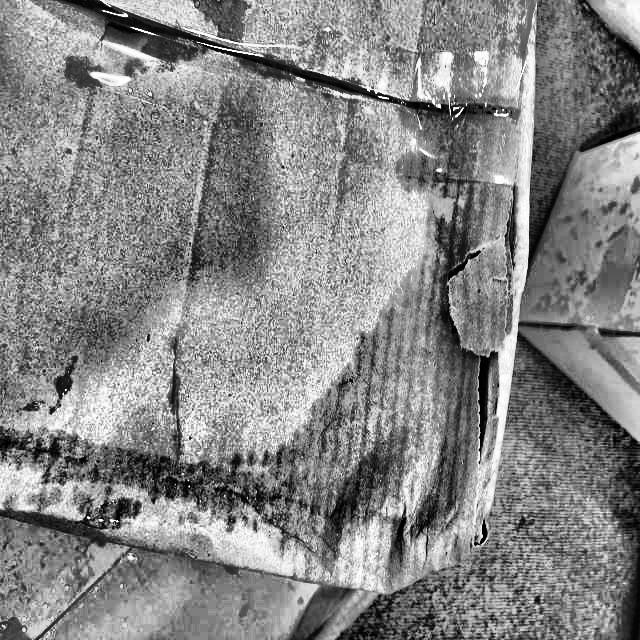box: (0, 0, 548, 613)
wet: (285, 131, 514, 578)
